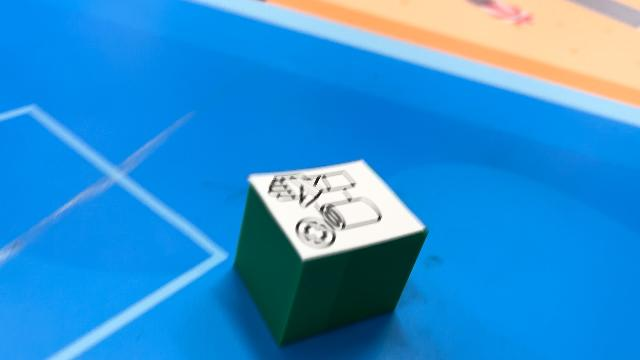bandage: (233, 157, 429, 346)
